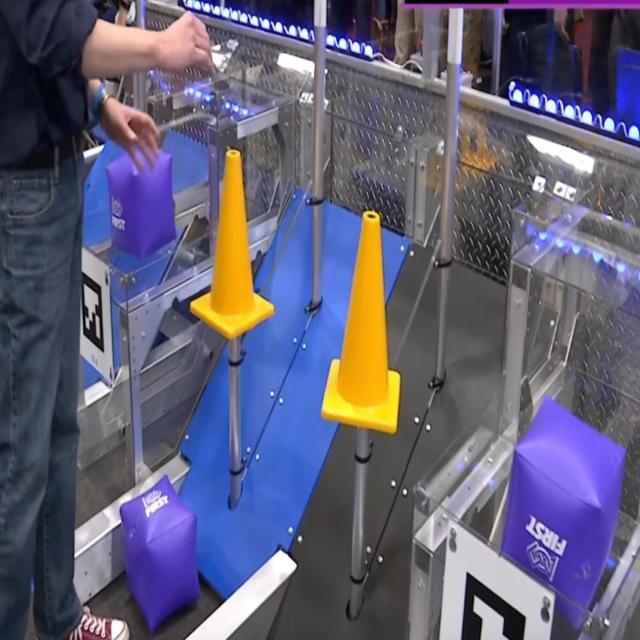frc_cone: (322, 208, 402, 434), (196, 147, 284, 340)
frc_cube: (502, 395, 624, 632), (117, 479, 200, 630), (107, 146, 178, 256)
